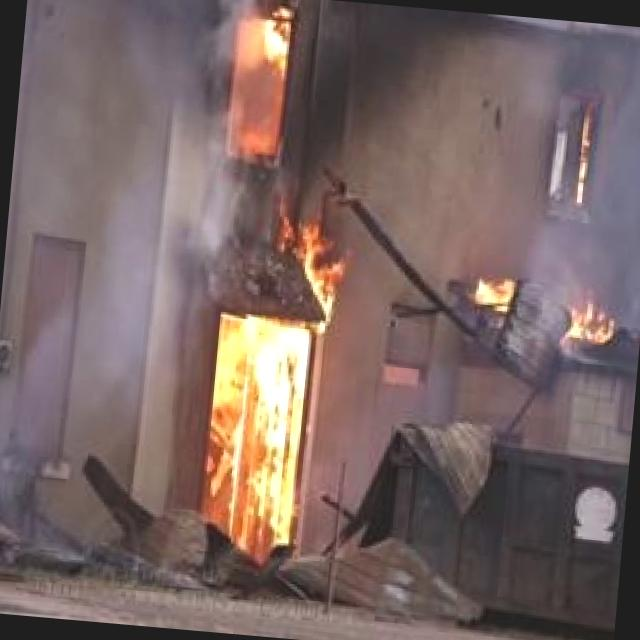fire: (202, 308, 317, 550), (211, 0, 304, 151)
